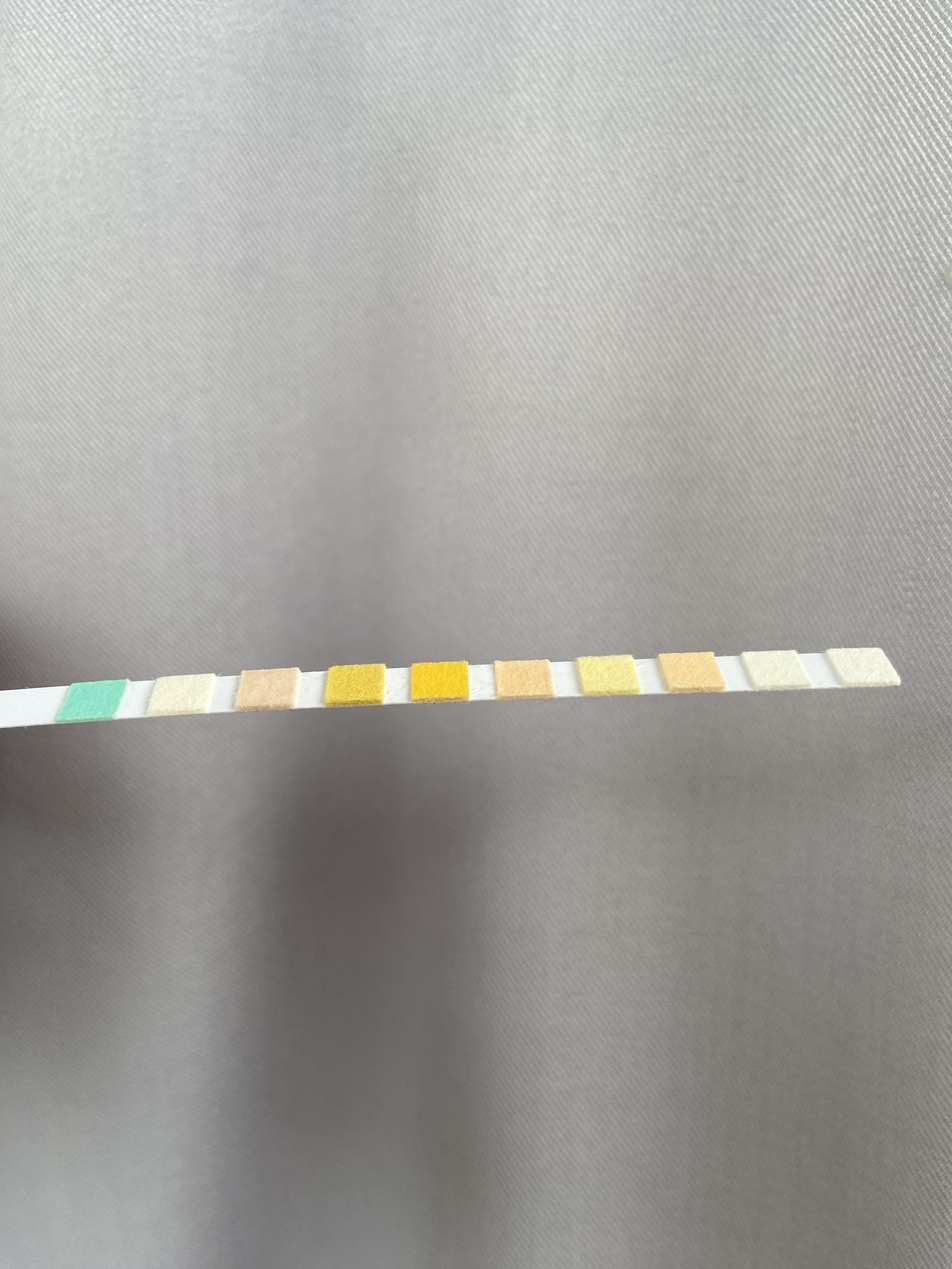Bilirubin: (158, 677, 202, 709)
Blood: (412, 663, 466, 697)
Glucose: (70, 685, 113, 717)
Ketone: (243, 672, 291, 704)
Leukocytes: (847, 650, 883, 682)
Nitrite: (758, 654, 796, 686)
Protein: (585, 658, 635, 689)
SpGravity: (330, 667, 381, 699)
Urobilinogen: (674, 653, 712, 688)
pH: (498, 661, 548, 695)
strip: (0, 650, 902, 727)
